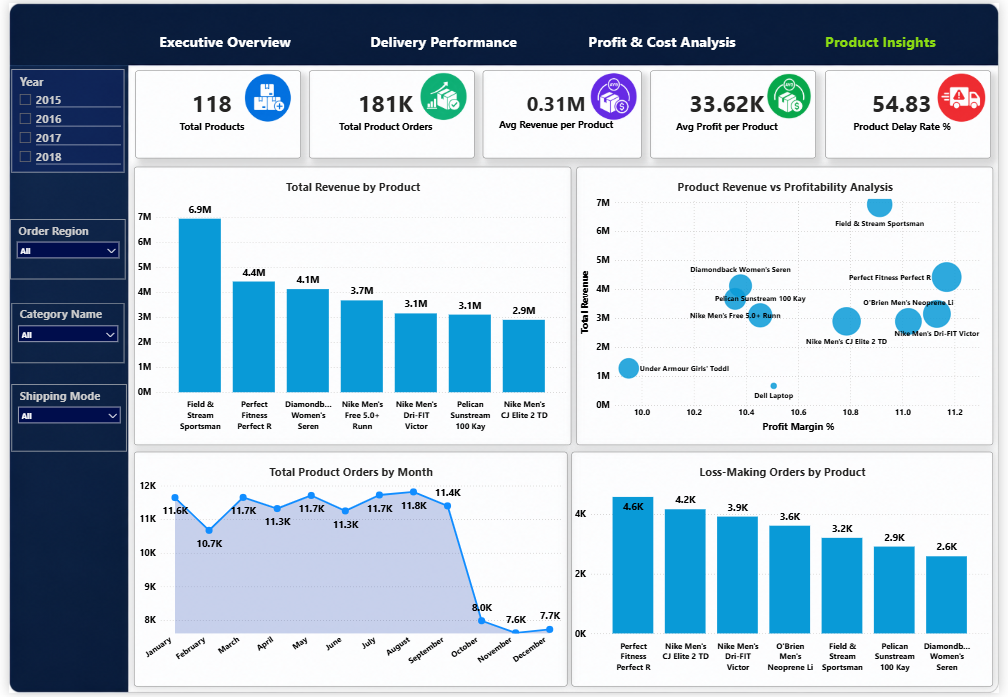

The page's visual inventory and layout, read from the dashboard file:
{"tool":"powerbi","page":{"name":"Product Insights","canvas":[1650,1150],"ordinal":3},"visuals":[{"type":"group","id":"g1","title":"Group 2","box":[210,112,1425,146],"z":0},{"type":"card","title":"Total Revenue","fields":{"Values":["Measure.Total Products"]},"box":[210,112,275.8,146],"z":0,"group":"g2"},{"type":"slicer","fields":{"Values":["final_supply_chain_analytics.Year"]},"box":[4,110,188,172],"z":1000},{"type":"card","title":"Avg Delay","fields":{"Values":["Measure.Avg Profit per Product"]},"box":[1069.3,112,275.8,146],"z":1000,"group":"g2"},{"type":"card","title":"Total Order","fields":{"Values":["Measure.Avg Revenue per Product"]},"box":[789.9,112,265.1,146],"z":2000,"group":"g2"},{"type":"slicer","fields":{"Values":["final_supply_chain_analytics.Order Region"]},"box":[3,360,192,100],"z":2000},{"type":"card","title":"Total Profit","fields":{"Values":["Measure.Total Products Sold"]},"box":[500,112,275.8,146],"z":3000,"group":"g2"},{"type":"slicer","fields":{"Values":["final_supply_chain_analytics.Category Name"]},"box":[4,501,188,100],"z":3000},{"type":"card","title":"Late Delivery %","fields":{"Values":["Measure.Product Delay Rate %"]},"box":[1359.2,112,275.8,146],"z":4000,"group":"g2"},{"type":"slicer","fields":{"Values":["final_supply_chain_analytics.Shipping Mode"]},"box":[4,635,192,112],"z":4000},{"type":"group","id":"g2","title":"Group 1","box":[210,112,1425,146],"z":4003,"group":"g1"},{"type":"clusteredColumnChart","title":"Total Revenue by Product","fields":{"Y":["Measure.Total Revenue"],"Category":["final_supply_chain_analytics.Short Product Name"]},"box":[208,272,729,464],"z":5000},{"type":"scatterChart","title":"Product Revenue vs Profitability Analysis","fields":{"X":["Measure.Profit Margin %"],"Size":["Measure.Total Orders"],"Y":["Measure.Total Revenue"],"Category":["final_supply_chain_analytics.Short Product Name"]},"box":[945,272,694,464],"z":6000},{"type":"lineChart","fields":{"Y":["Measure.Total Products Sold"],"Category":["final_supply_chain_analytics.order date (DateOrders).Variation.Date Hierarchy.Month"]},"box":[208,747,722,391],"z":7000},{"type":"image","box":[384,110,96,96],"z":8000},{"type":"image","box":[678,110,94,93],"z":9000},{"type":"image","box":[963,110,91,93],"z":10000},{"type":"image","box":[1539,110,96,96],"z":11000},{"type":"image","box":[1252,112,96,87],"z":12000},{"type":"clusteredColumnChart","title":"Loss-Making Orders by Product","fields":{"Category":["final_supply_chain_analytics.Short Product Name"],"Y":["Measure.Loss-Making Orders"]},"box":[938,747,702,391],"z":13000},{"type":"pageNavigator","box":[184,11,1447,86],"z":14000}]}

Visuals, with their boxes in screenshot pixels (x1, y1, x2, y2), scaled from the page's 1650x1150 canvas onto the 1008x697 screenshot:
"Group 2" group: x1=128, y1=68, x2=999, y2=156
"Total Revenue" card: x1=128, y1=68, x2=297, y2=156
slicer - final_supply_chain_analytics.Year: x1=2, y1=67, x2=117, y2=171
"Avg Delay" card: x1=653, y1=68, x2=822, y2=156
"Total Order" card: x1=483, y1=68, x2=645, y2=156
slicer - final_supply_chain_analytics.Order Region: x1=2, y1=218, x2=119, y2=279
"Total Profit" card: x1=305, y1=68, x2=474, y2=156
slicer - final_supply_chain_analytics.Category Name: x1=2, y1=304, x2=117, y2=364
"Late Delivery %" card: x1=830, y1=68, x2=999, y2=156
slicer - final_supply_chain_analytics.Shipping Mode: x1=2, y1=385, x2=120, y2=453
"Group 1" group: x1=128, y1=68, x2=999, y2=156
"Total Revenue by Product" clusteredColumnChart: x1=127, y1=165, x2=572, y2=446
"Product Revenue vs Profitability Analysis" scatterChart: x1=577, y1=165, x2=1001, y2=446
lineChart - Measure.Total Products Sold x final_supply_chain_analytics.order date (DateOrders).Variation.Date Hierarchy.Month: x1=127, y1=453, x2=568, y2=690
image: x1=235, y1=67, x2=293, y2=125
image: x1=414, y1=67, x2=472, y2=123
image: x1=588, y1=67, x2=644, y2=123
image: x1=940, y1=67, x2=999, y2=125
image: x1=765, y1=68, x2=824, y2=121
"Loss-Making Orders by Product" clusteredColumnChart: x1=573, y1=453, x2=1002, y2=690
pageNavigator: x1=112, y1=7, x2=996, y2=59
